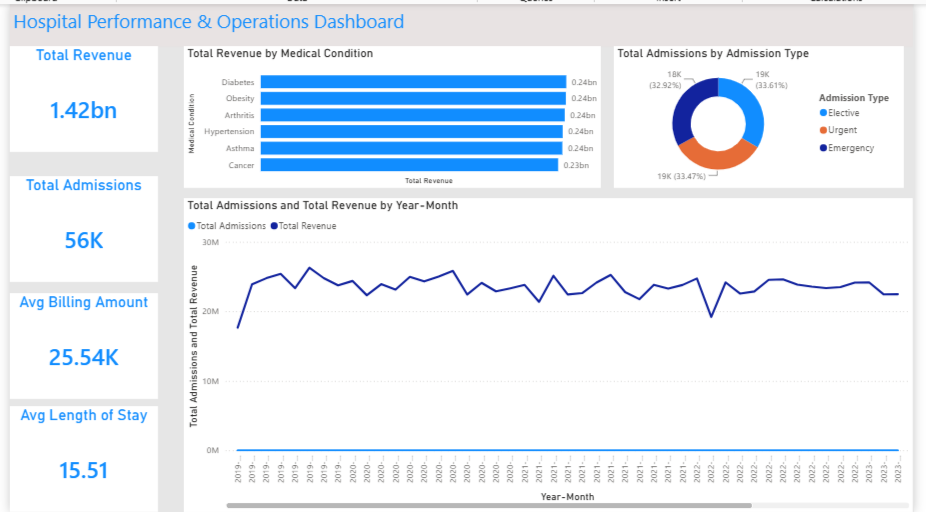

The page's visual inventory and layout, read from the dashboard file:
{"tool":"powerbi","page":{"name":"Executive  Overview Layout ","canvas":[1280,720],"ordinal":0},"visuals":[{"type":"textbox","title":"ffffdvv bnn","box":[0,0,1279.8,59.5],"z":0},{"type":"cardVisual","title":"Total Revenue","fields":{"Data":["_Measures.Total Revenue"]},"box":[0,59.5,209.8,150.2],"z":1000},{"type":"cardVisual","title":"Total Admissions","fields":{"Data":["_Measures.Total Admissions"]},"box":[0,243.8,209.8,150.2],"z":2000},{"type":"cardVisual","title":"Avg Length of Stay","fields":{"Data":["_Measures.Avg Length of Stay"]},"box":[0,569.8,209.8,150.2],"z":3000},{"type":"cardVisual","title":"Avg Billing Amount","fields":{"Data":["_Measures.Avg Billing Amount"]},"box":[0,409.6,209.8,150.2],"z":4000},{"type":"lineChart","fields":{"Category":["Dim_Date.Year-Month"],"Y":["_Measures.Total Admissions","_Measures.Total Revenue"]},"box":[246.6,275,1033.2,445],"z":5000},{"type":"donutChart","fields":{"Y":["_Measures.Total Admissions"],"Category":["healthcare_dataset.Admission Type"]},"box":[856.1,59.5,411,201.3],"z":6000},{"type":"clusteredBarChart","fields":{"Y":["_Measures.Total Revenue"],"Category":["healthcare_dataset.Medical Condition"]},"box":[246.6,59.5,591,201.3],"z":7000}]}

Visuals, with their boxes in screenshot pixels (x1, y1, x2, y2), scaled from the page's 1280x720 canvas onto the 926x512 screenshot:
"ffffdvv bnn" textbox: <box>0,0,925,42</box>
"Total Revenue" cardVisual: <box>0,42,152,149</box>
"Total Admissions" cardVisual: <box>0,173,152,280</box>
"Avg Length of Stay" cardVisual: <box>0,405,152,511</box>
"Avg Billing Amount" cardVisual: <box>0,291,152,398</box>
lineChart - Dim_Date.Year-Month x _Measures.Total Admissions: <box>178,196,925,511</box>
donutChart - _Measures.Total Admissions x healthcare_dataset.Admission Type: <box>619,42,917,185</box>
clusteredBarChart - _Measures.Total Revenue x healthcare_dataset.Medical Condition: <box>178,42,606,185</box>
